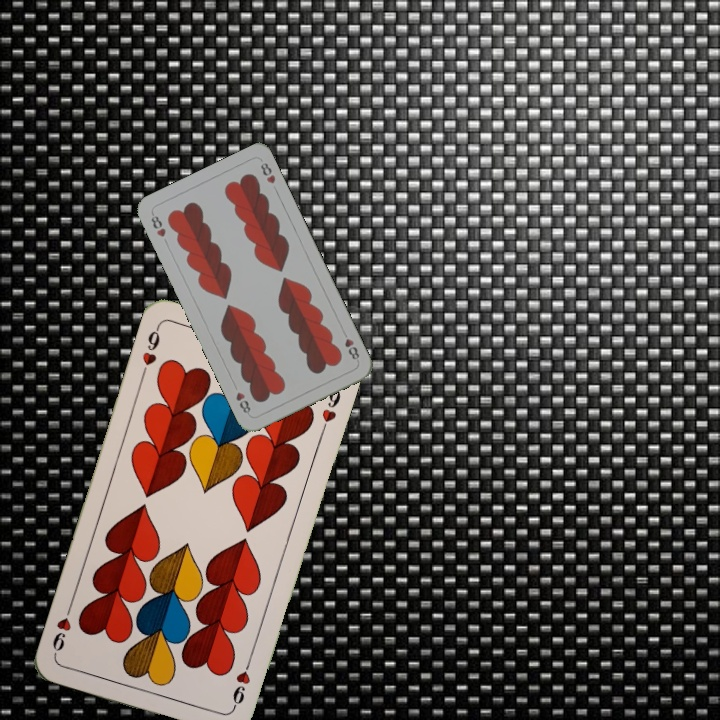H8: (338, 326, 362, 362), (147, 209, 168, 240)
H9: (228, 655, 255, 713), (137, 322, 163, 380)
